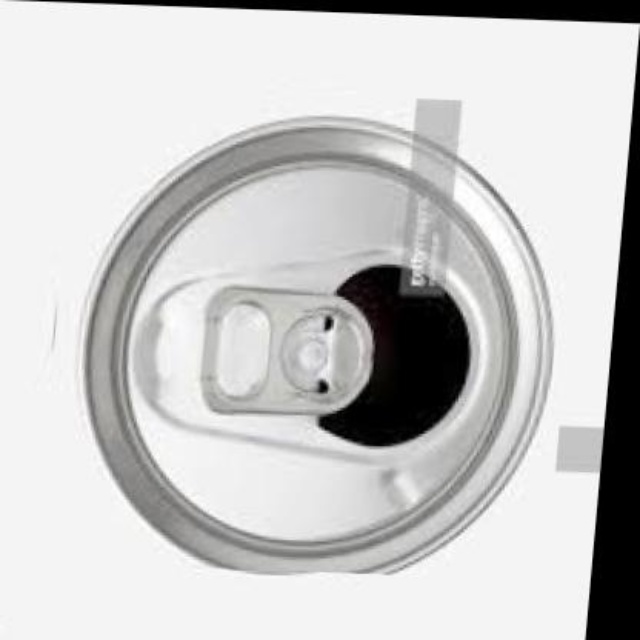trash: (85, 117, 551, 572)
